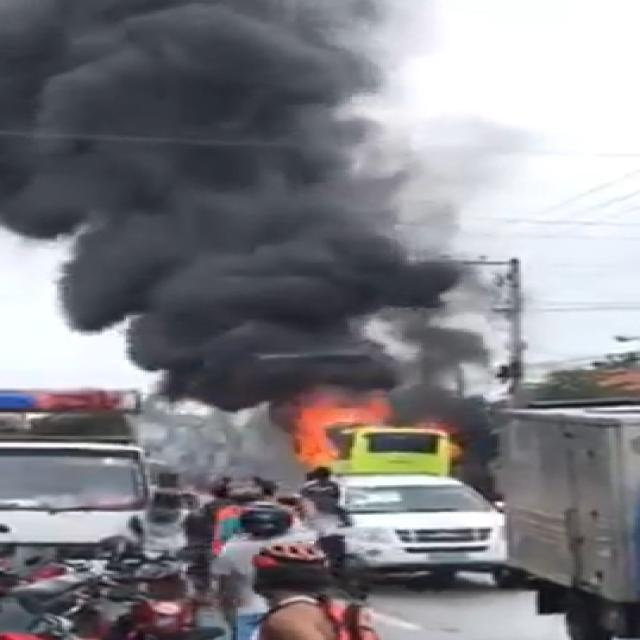Fire: (300, 401, 400, 478)
Smoke: (7, 0, 421, 350)
